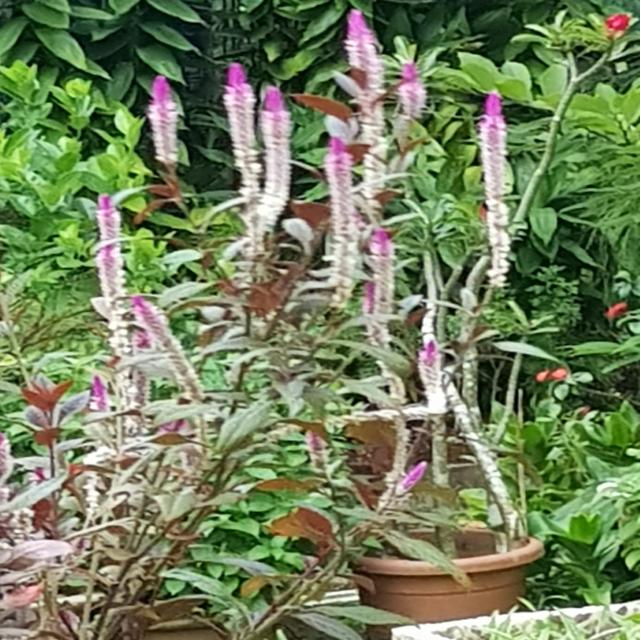Celosia-Argentea: (89, 193, 210, 414), (332, 3, 406, 328), (229, 75, 314, 236), (463, 76, 523, 274), (389, 332, 477, 422), (220, 56, 270, 212), (133, 72, 190, 188), (324, 130, 358, 282), (360, 451, 427, 514), (397, 63, 446, 145)
